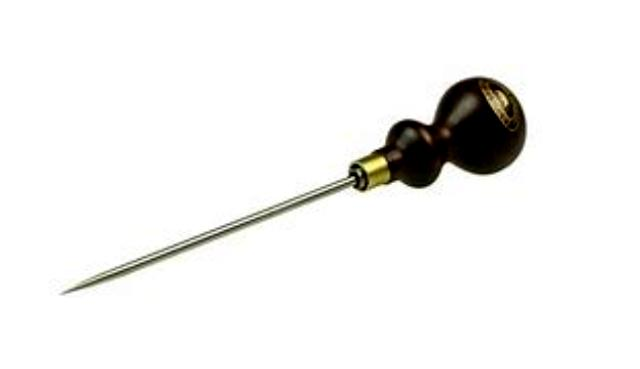ice pick: (72, 72, 532, 294)
